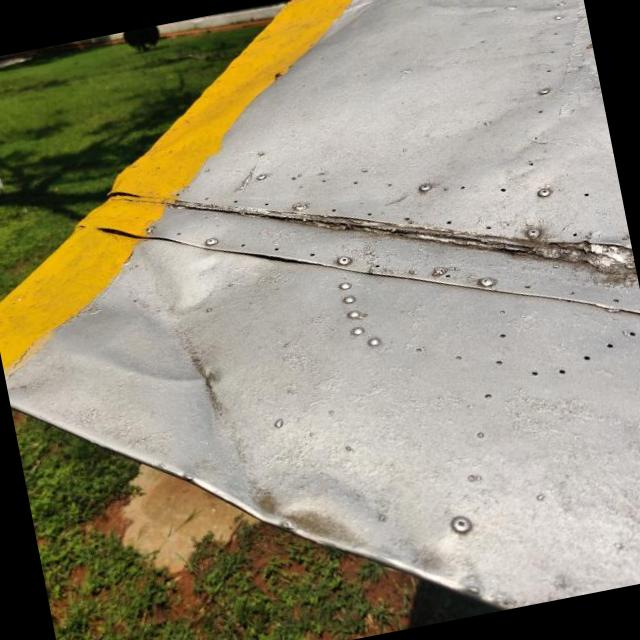Dent: (217, 462, 494, 600)
